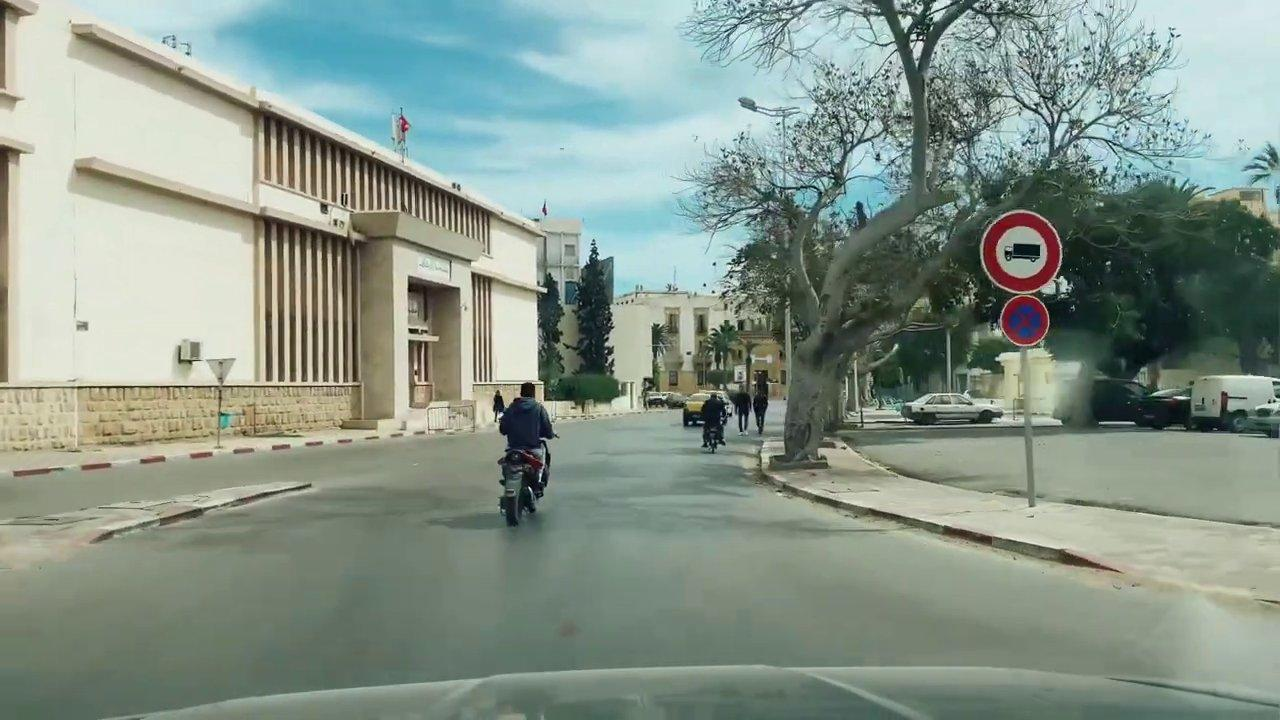no stopping: (999, 297, 1050, 347)
no trucks: (979, 209, 1065, 293)
